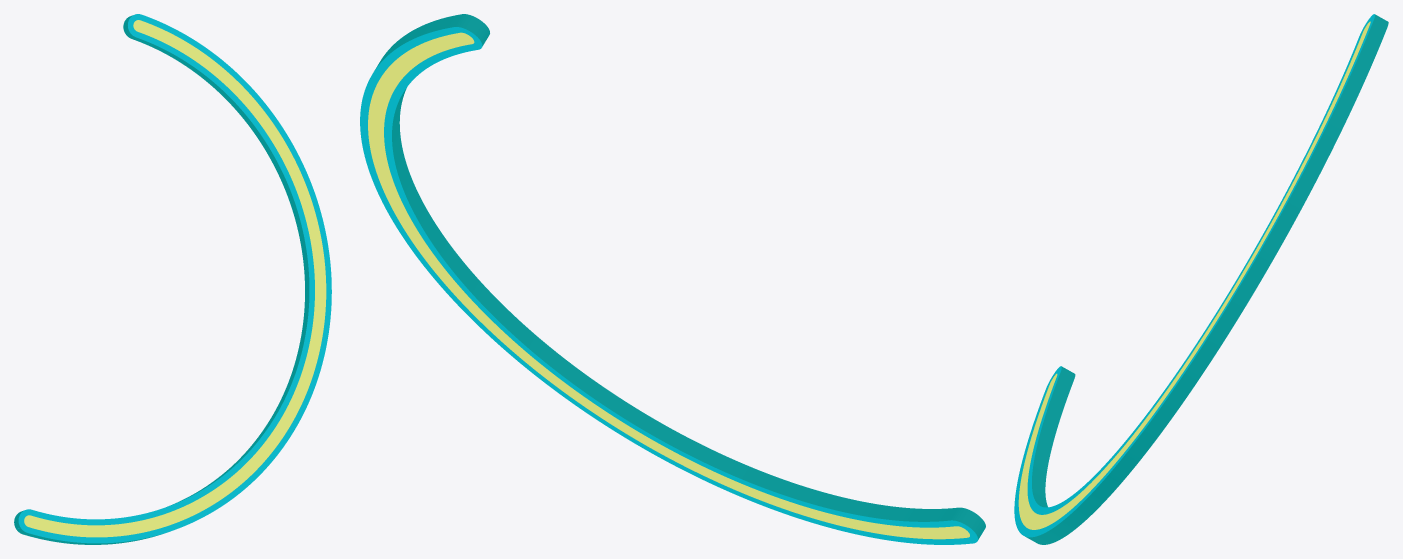
File: arc4.glb
3 renders of one model, left to right at view 1: azimuth 30°, elevation 25°; view 2: azimuth 150°, elevation 25°; view 3: azimuth 270°, elevation 25°, orthographic. The views are drawn at different scales.
Parts seen in each view (by area): view 1: Asset 72; view 2: Asset 72; view 3: Asset 72.
Boxes of the visible parts, box(x1,y1,x2,y2) form: Asset 72: box(14, 14, 331, 544); Asset 72: box(360, 14, 985, 544); Asset 72: box(1014, 14, 1388, 544).
Size of the model in its own units: 4.35 by 4.77 by 2.84.
